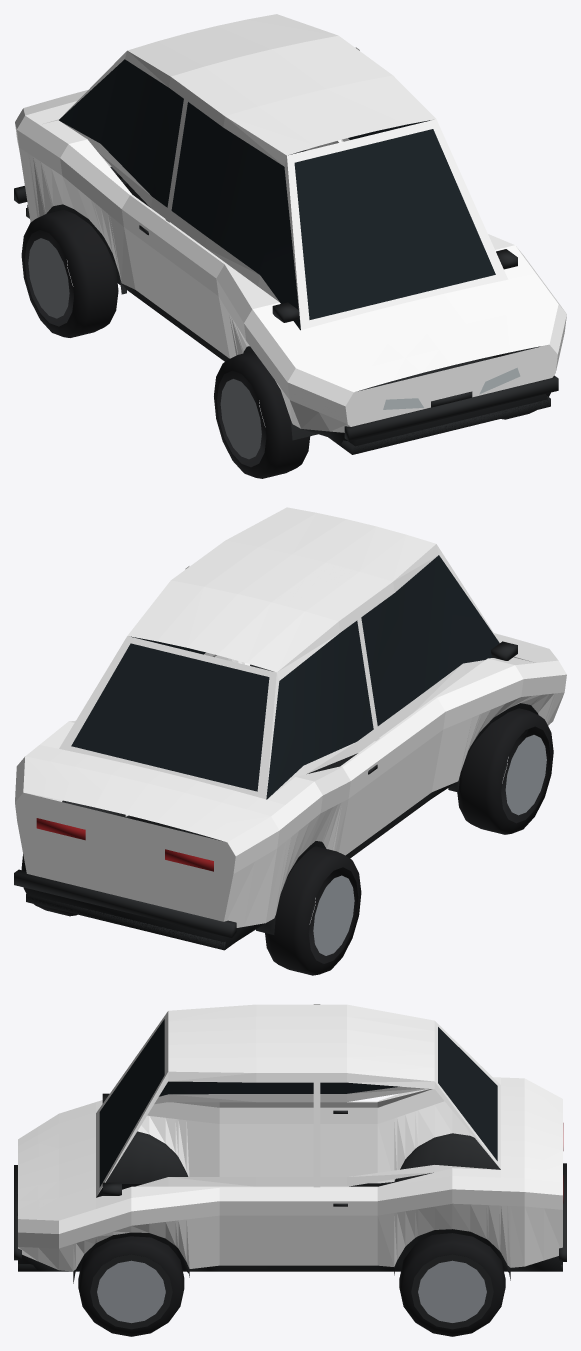
The model's file is tomoe_cipo.glb.
The picture shows the model from 3 angles, top to bottom: view 1: azimuth 30°, elevation 25°; view 2: azimuth 150°, elevation 25°; view 3: azimuth 270°, elevation 25°; orthographic projection. The views are drawn at different scales.
Parts seen in each view (by area): view 1: Body_Paint, Body_Details, Mount_RearLeft_Wheel_Details, Mount_FrontLeft_Wheel_Details; view 2: Body_Paint, Body_Details, Mount_FrontLeft_Wheel_Details, Mount_RearLeft_Wheel_Details; view 3: Body_Paint, Body_Details, Mount_RearRight_Wheel_Details, Mount_FrontRight_Wheel_Details.
Boxes of the visible parts, x1,y1,x2,y2 form: Body_Paint: (15,14,566,432); Body_Details: (14,59,558,454); Mount_RearLeft_Wheel_Details: (21,209,118,337); Mount_FrontLeft_Wheel_Details: (214,351,310,478); Body_Paint: (15,507,566,927); Body_Details: (14,555,538,950); Mount_FrontLeft_Wheel_Details: (457,708,553,834); Mount_RearLeft_Wheel_Details: (265,846,361,975); Body_Paint: (18,1004,562,1271); Body_Details: (14,1019,566,1283); Mount_RearRight_Wheel_Details: (399,1233,505,1336); Mount_FrontRight_Wheel_Details: (78,1236,184,1336).
Size of the model in its own units: 1.87 by 1.84 by 3.76.
Materials: 2 (1 with a texture image).
